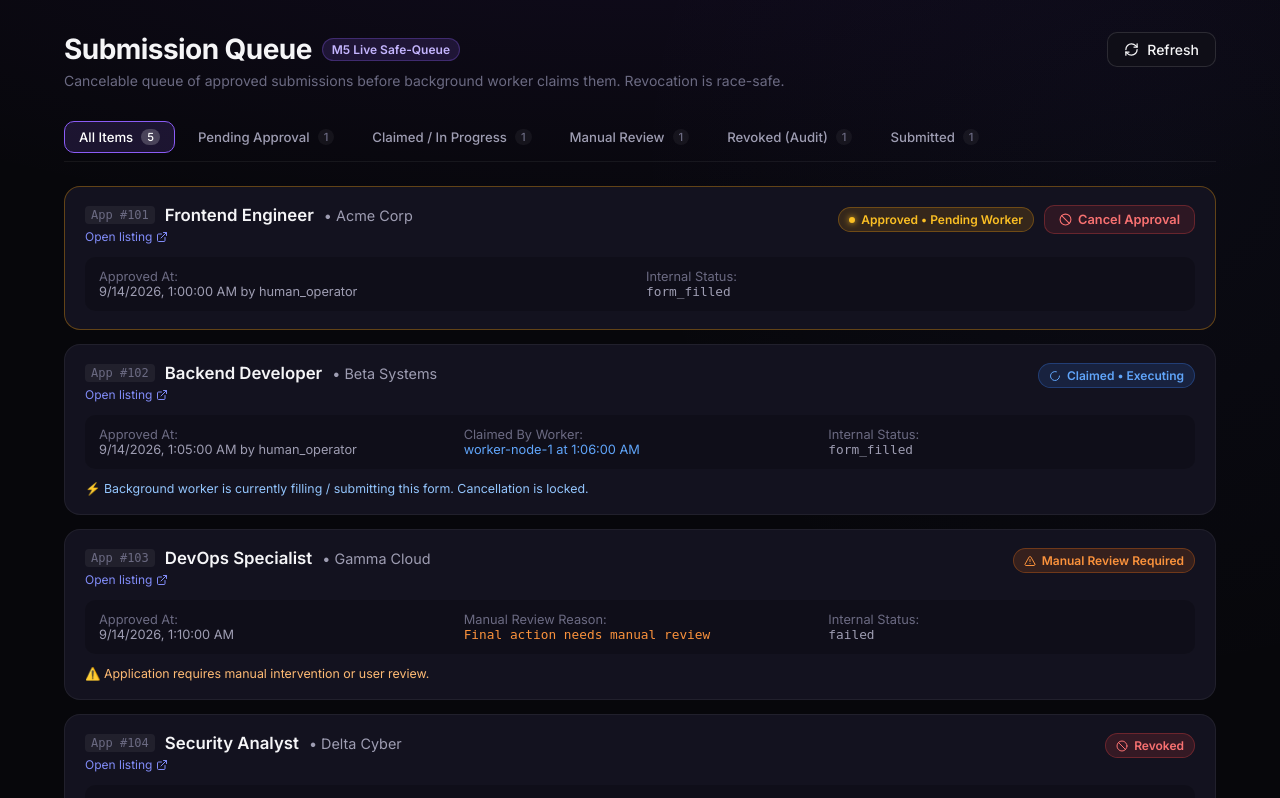
SubmissionQueuePage › 5. Declining confirmation sends no request and closes modal
The width and height of the screenshot is (1280, 798).
Expected: the heading "Frontend Engineer" is shown, [165,205,314,225]
Click the button "Cancel Approval" at (1120, 220), box [1044,205,1195,234]
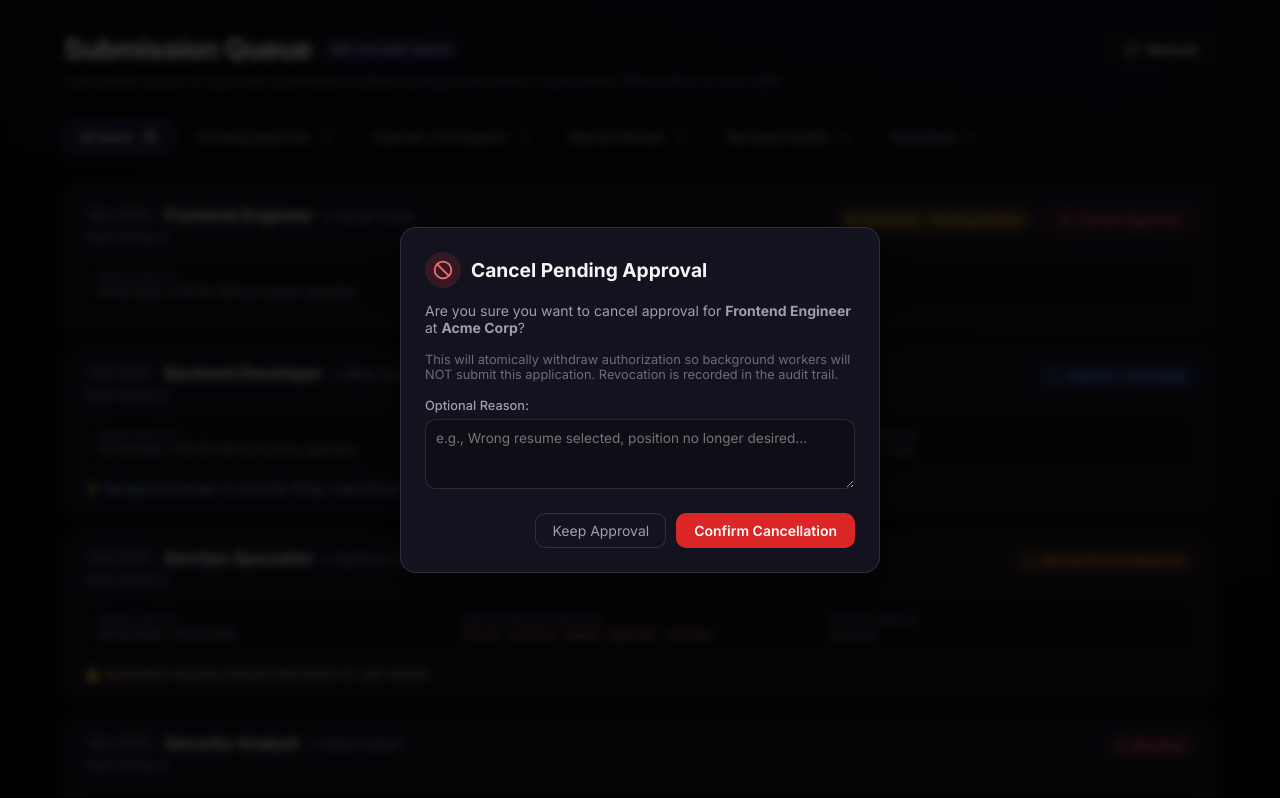
Result: the heading "Cancel Pending Approval" is shown at [471,258,707,282]
Click the button "Keep Approval" at (601, 530), box [536,513,666,548]
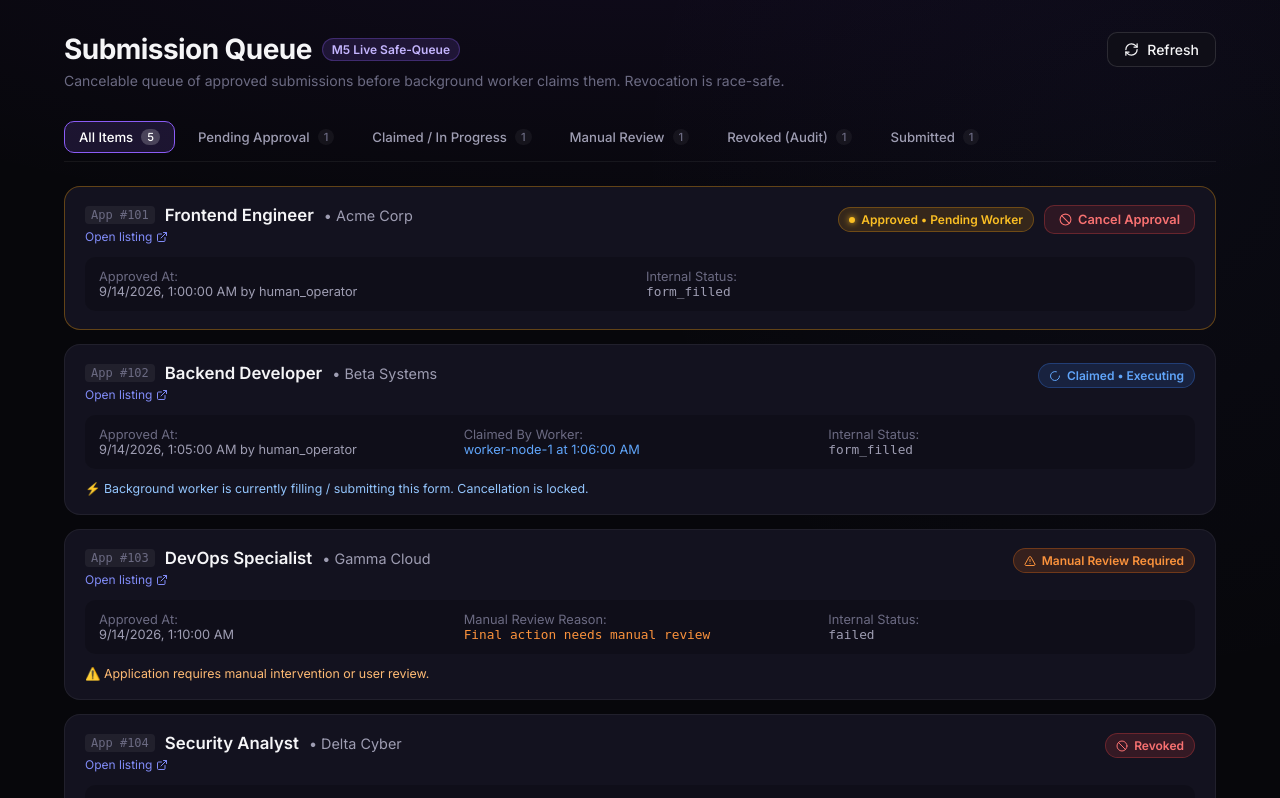
Result: the heading "Cancel Pending Approval" is gone
